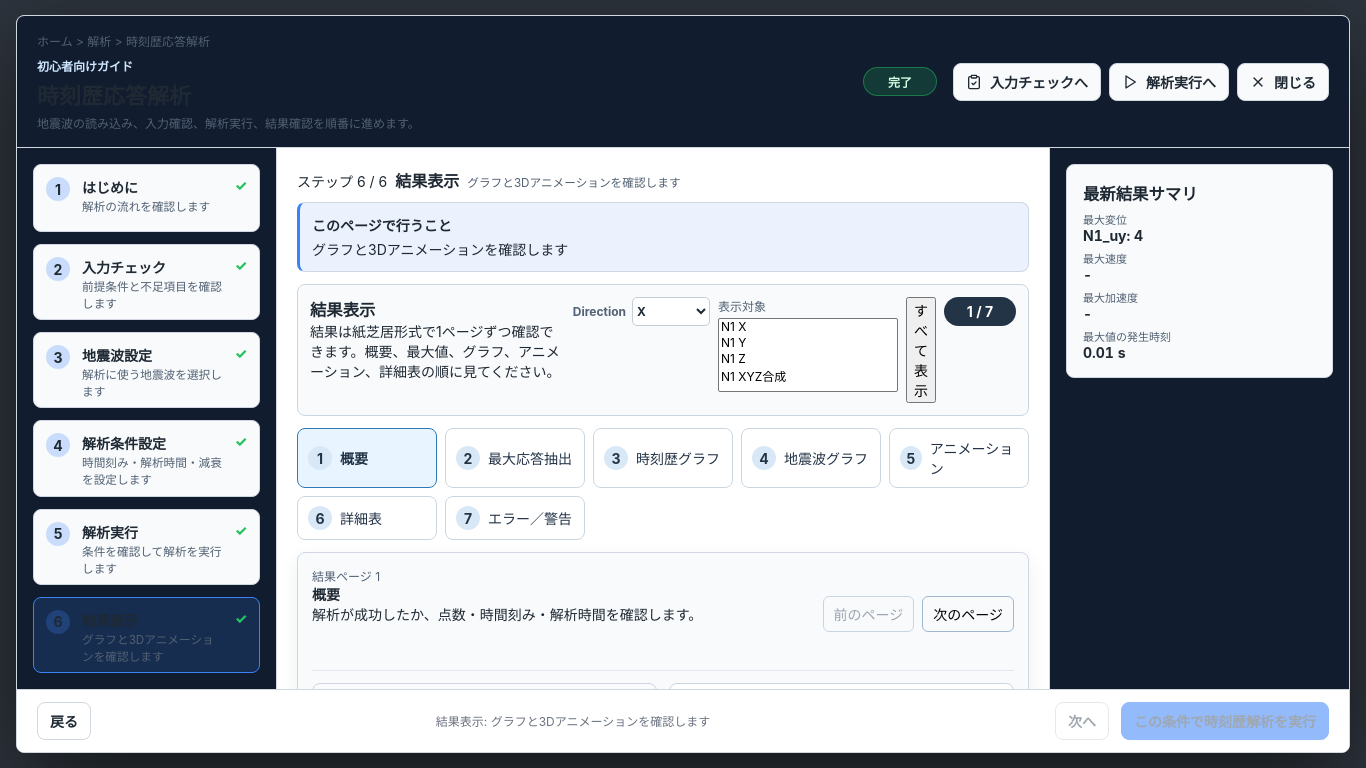
Test: TimeHistoryWizardModal › selects, charts, and summarizes the XYZ combined displacement
Click the button "6 結果表示 グラフと3Dアニメーションを確認します ✓".
click(146, 635)  # box [33,597,260,673]
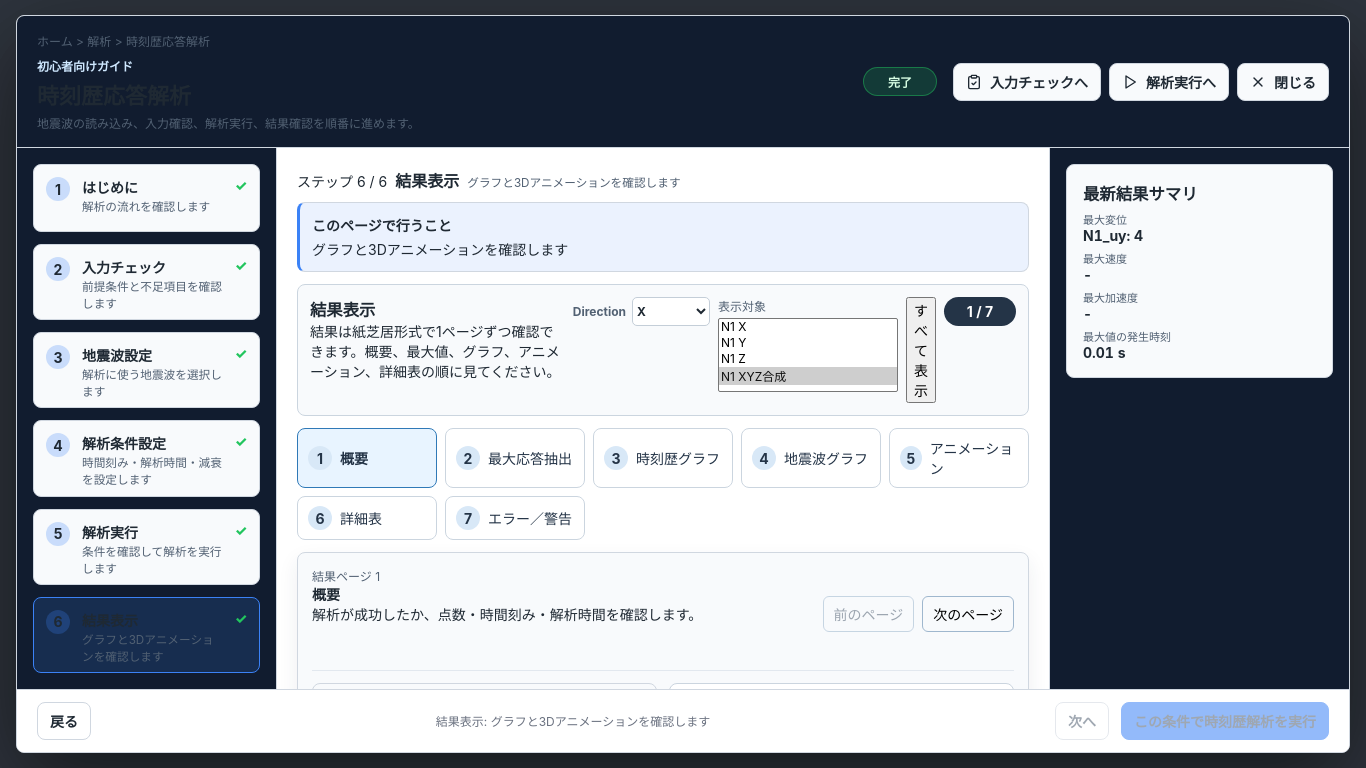
Select "N1 XYZ合成" in the dropdown labelled "表示対象" at (808, 355), box [718,318,898,392]
Click the button "3 時刻歴グラフ".
click(663, 458)  # box [593,428,733,488]
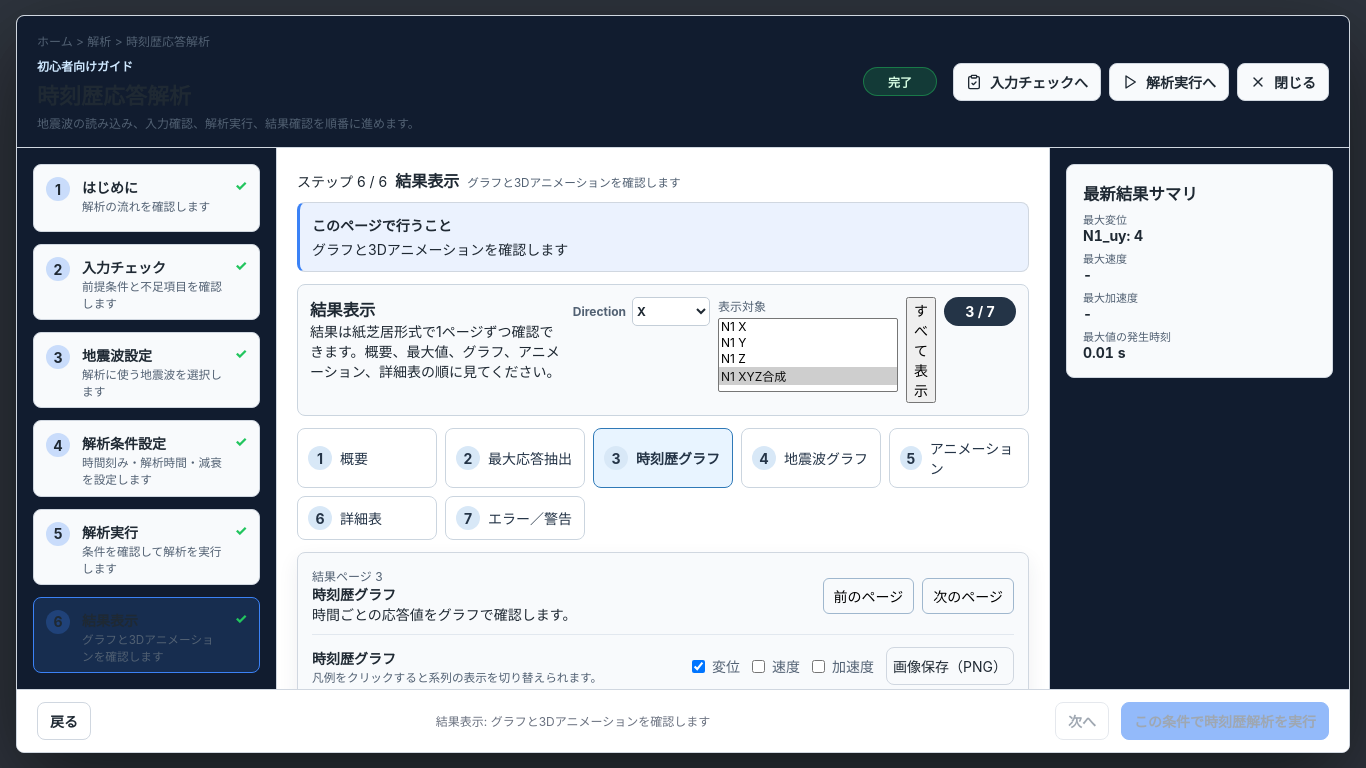
Click the button "2 最大応答抽出".
click(515, 458)  # box [445,428,585,488]
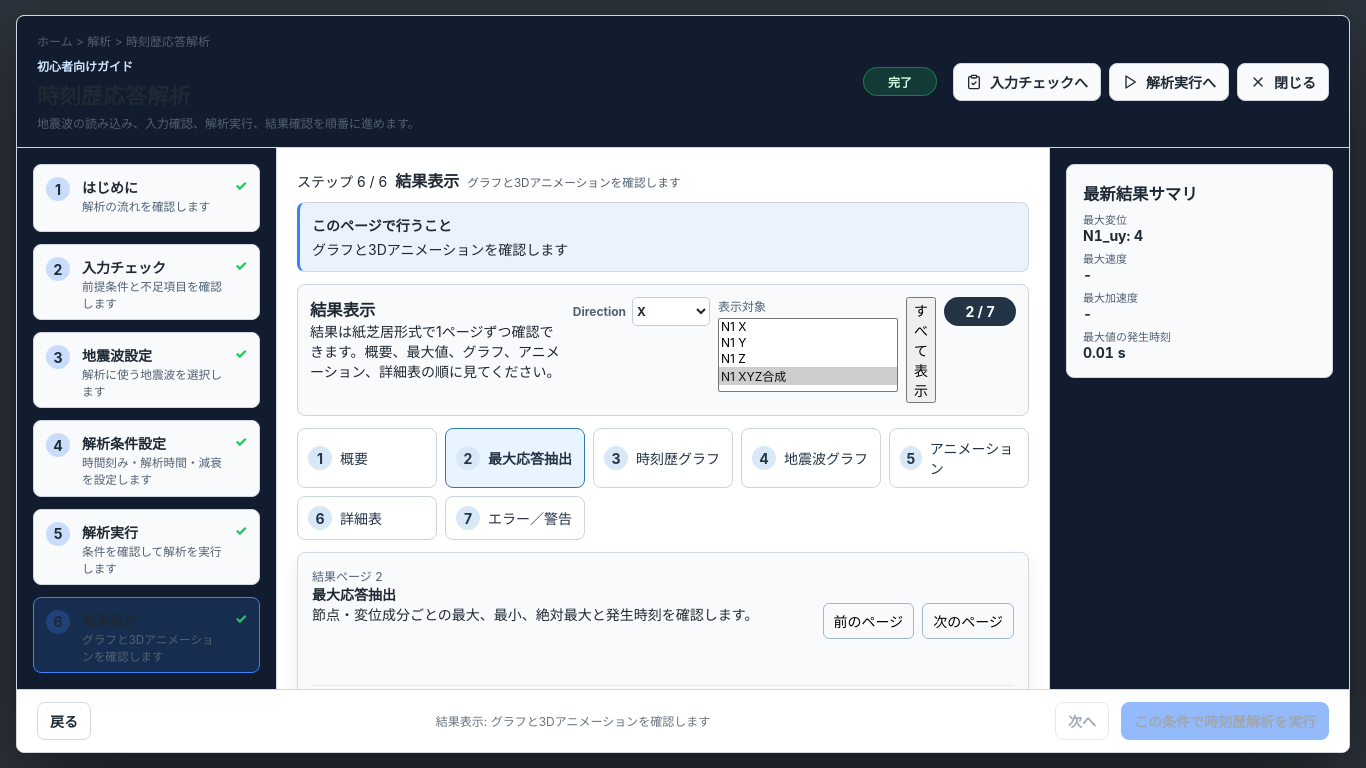
Check: the text "5" is shown, box [46,522,70,546]
Click the button "3 時刻歴グラフ".
click(663, 458)  # box [593,428,733,488]
(page scrolled)
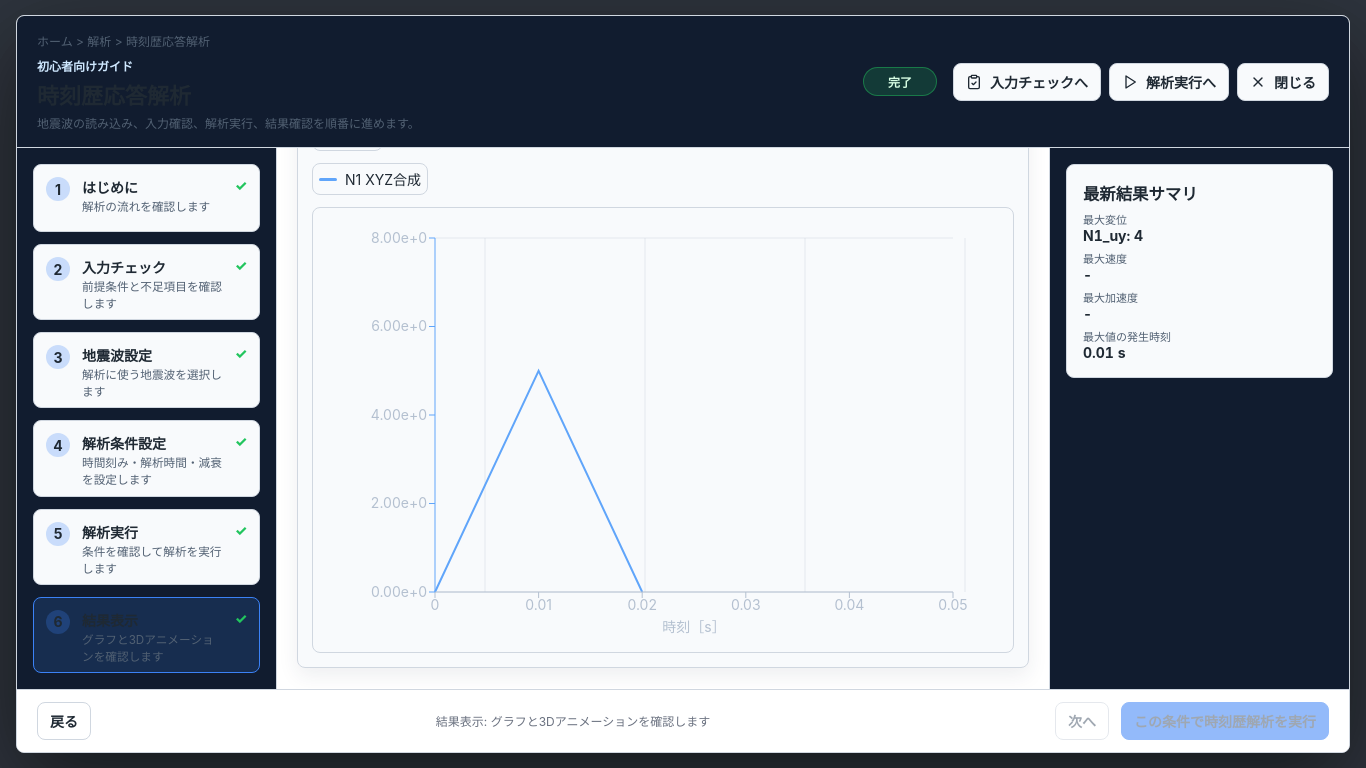
Check: the element with class "time-history-chart-host" is shown, box [312,207,1014,653]
